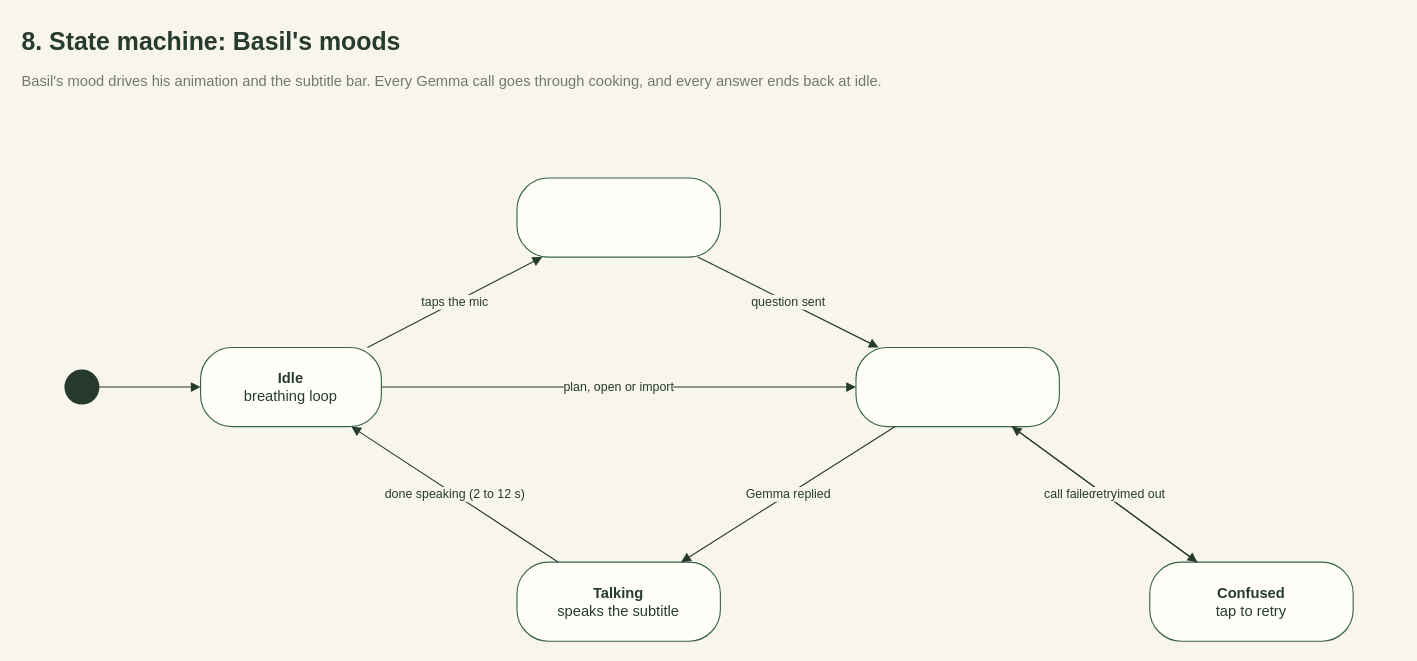
This 1417x661 diagram has some shape labels left out. Each missing label, with the box of its shape:
Cooking pan with steam: (855, 346, 1059, 427)
Listening mic open: (516, 177, 720, 257)
